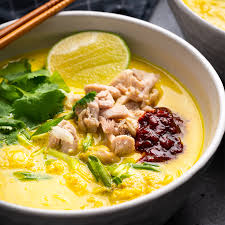soto: (4, 17, 211, 209)
